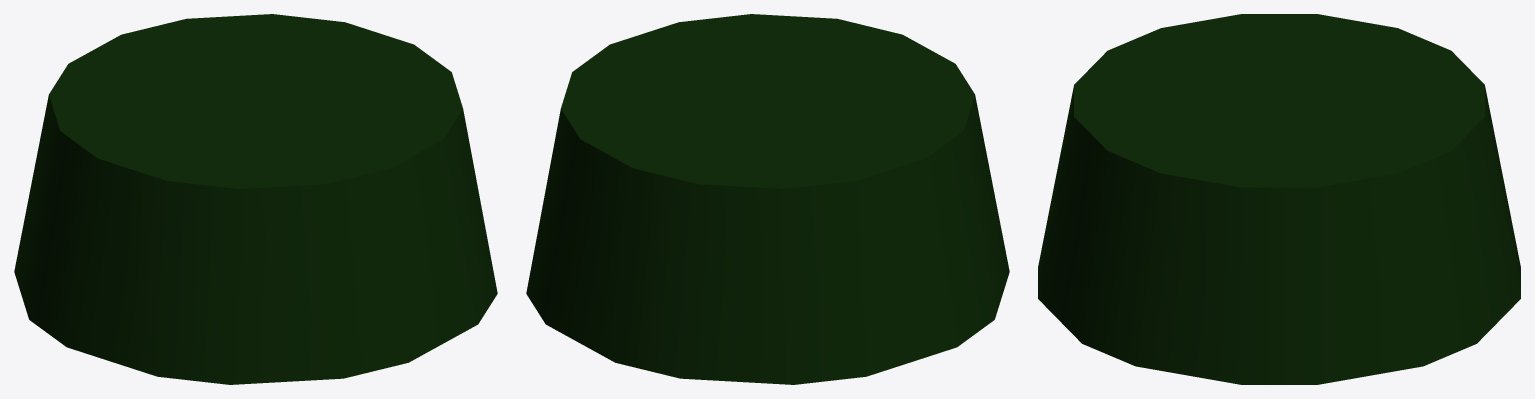
The model's file is round-tower-base-4.fbx.
3 renders of one model, left to right at view 1: azimuth 30°, elevation 25°; view 2: azimuth 150°, elevation 25°; view 3: azimuth 270°, elevation 25°, orthographic.
Parts seen in each view (by area): view 1: round-tower-base-4; view 2: round-tower-base-4; view 3: round-tower-base-4.
Boxes of the visible parts, box(x1,y1,x2,y2) form: round-tower-base-4: box(14, 14, 497, 384); round-tower-base-4: box(526, 14, 1009, 384); round-tower-base-4: box(1038, 14, 1520, 384).
Bounding box in the file's own units: 6.48 × 2.7 × 6.48.
